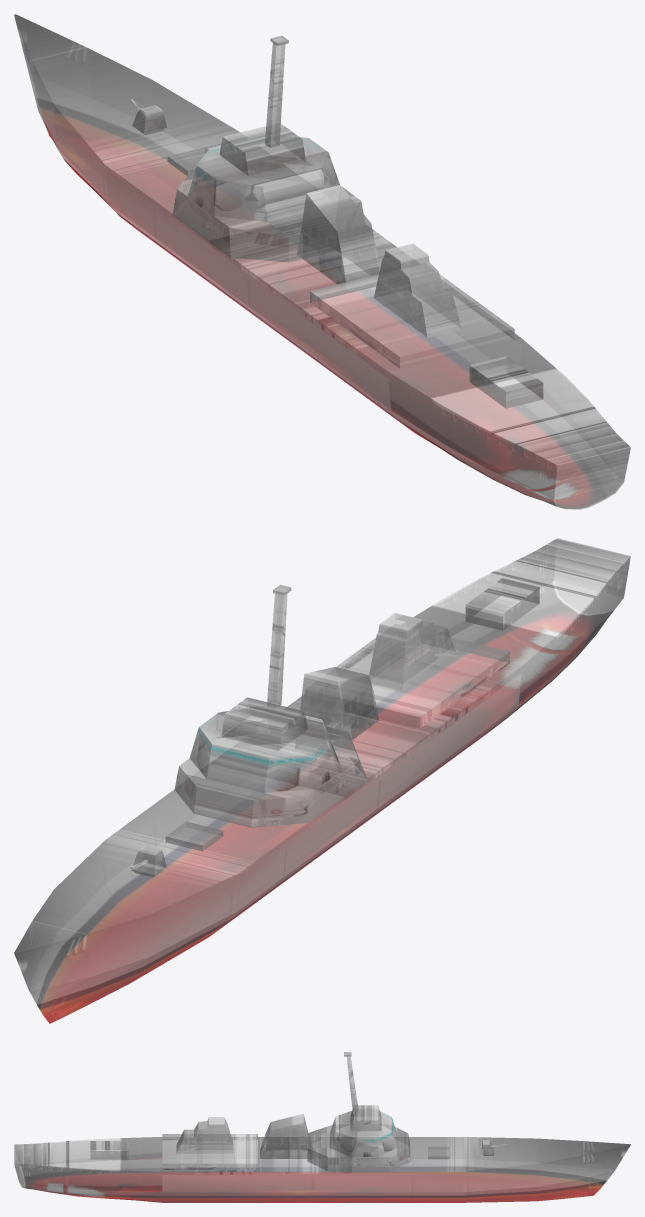
File: DDG.obj
3 views of the same model, one above another, from view 1: azimuth 30°, elevation 25°; view 2: azimuth 150°, elevation 25°; view 3: azimuth 270°, elevation 25° (orthographic). The views are drawn at different scales.
Visible parts, largest first — view 1: Cube_Cube.001; view 2: Cube_Cube.001; view 3: Cube_Cube.001.
Part boxes in pixels (bbox=[...]): Cube_Cube.001: bbox=[14, 14, 630, 509]; Cube_Cube.001: bbox=[14, 538, 630, 1023]; Cube_Cube.001: bbox=[14, 1052, 630, 1202].
Size of the model in its own units: 3.41 by 6.63 by 25.21.
